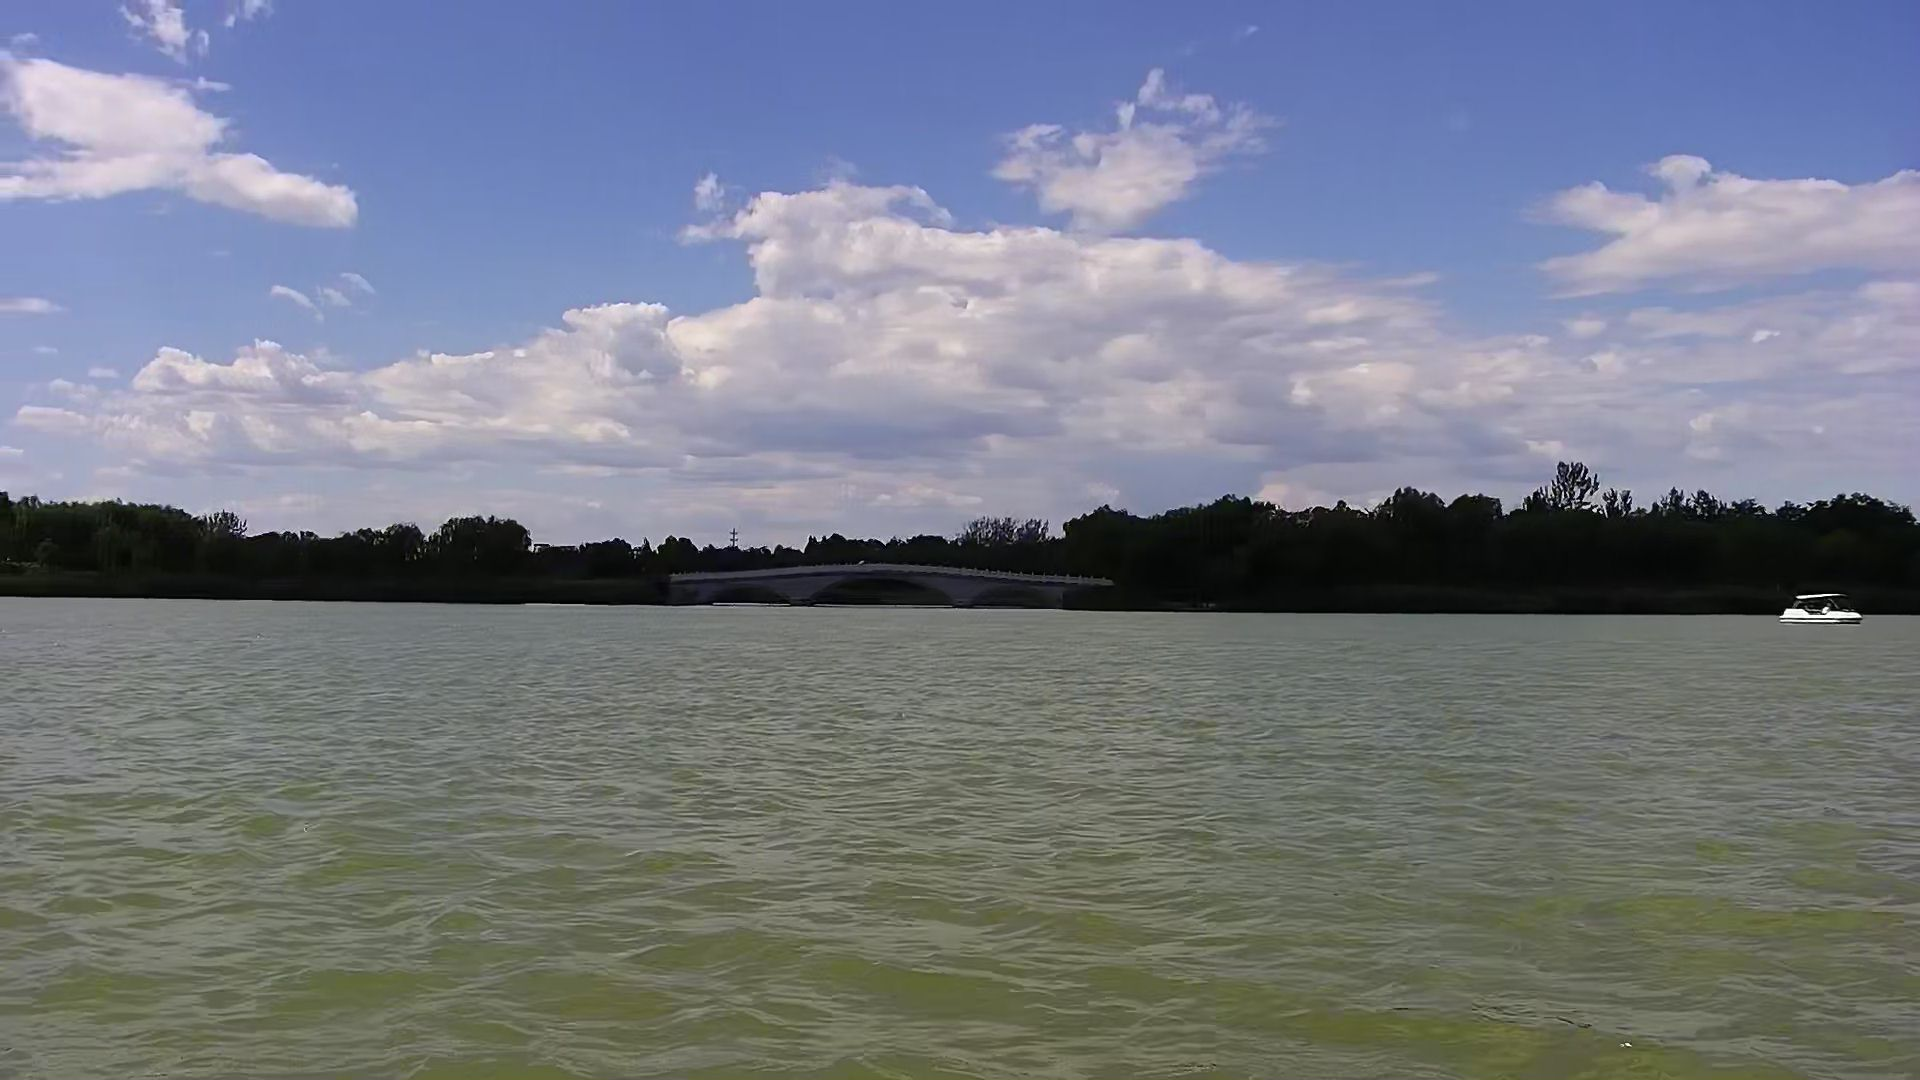boat: (1779, 589, 1867, 626)
bridge: (669, 564, 1120, 608)
